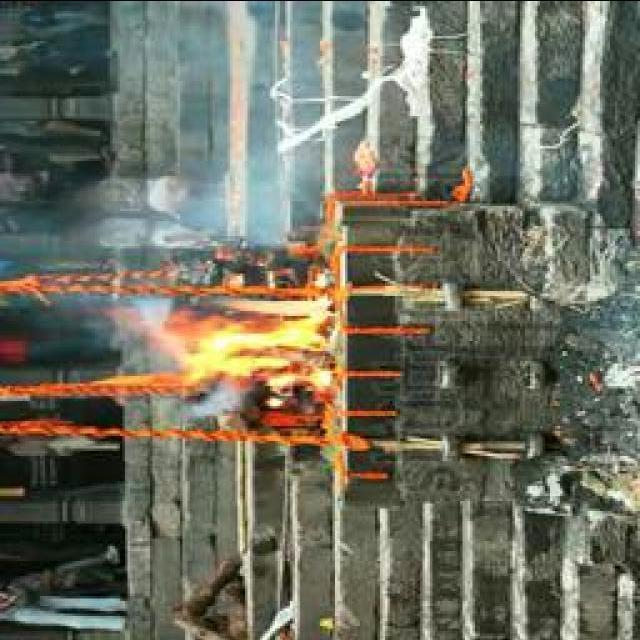Fire: (161, 292, 342, 390)
